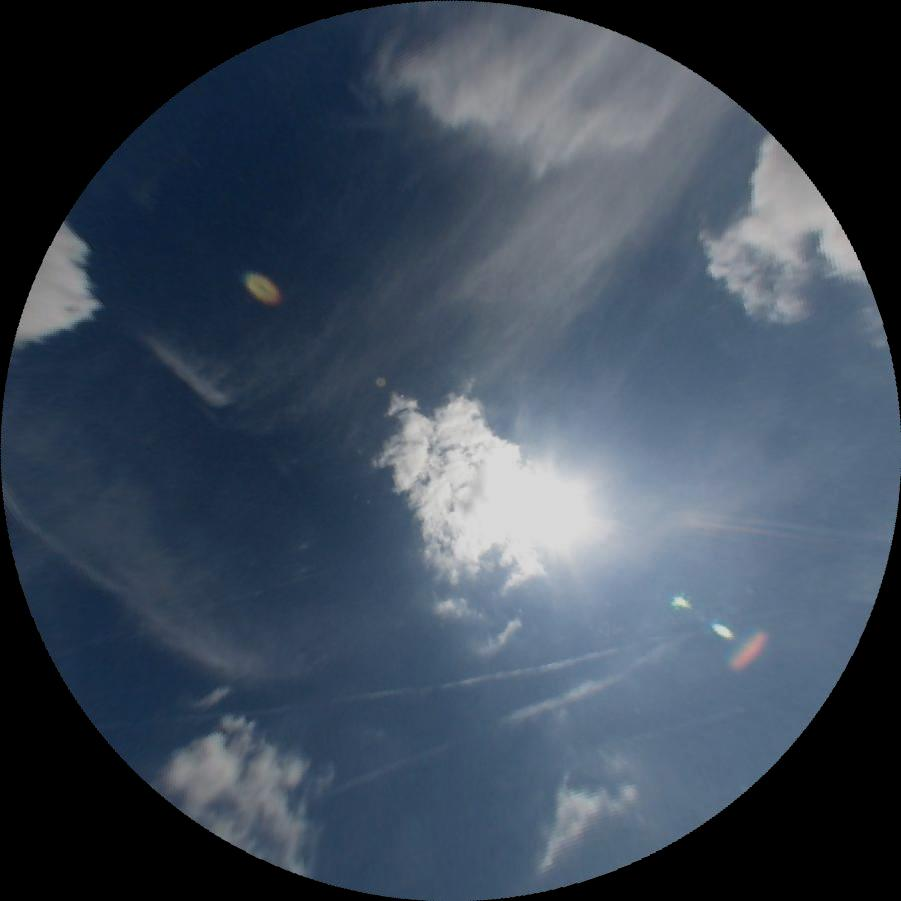contrail veryold: (329, 630, 695, 803), (177, 646, 622, 729)
sun: (496, 482, 581, 548)
